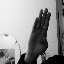b: (26, 7, 52, 57)
